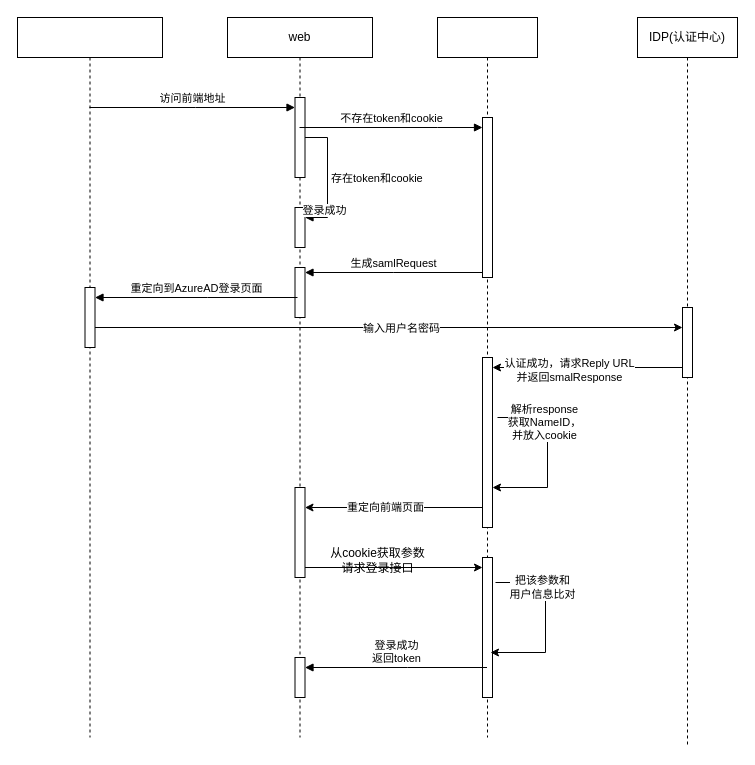
This 755x765 diagram has some shape labels left out. Each missing label, with the centre of its shape:
"server" belongs at [487,377].
"用户" belongs at [89,377].
